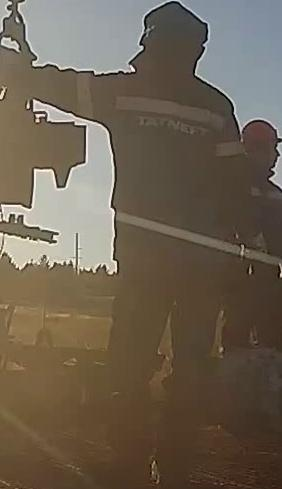gloves: (234, 236, 275, 277)
helmet: (241, 114, 281, 150)
vest: (73, 68, 236, 309)
